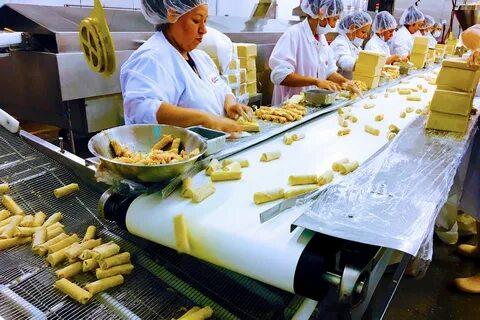hairnet: (126, 0, 220, 30), (296, 0, 351, 20), (347, 0, 370, 37), (376, 1, 395, 41), (418, 5, 439, 29), (402, 6, 417, 31)
